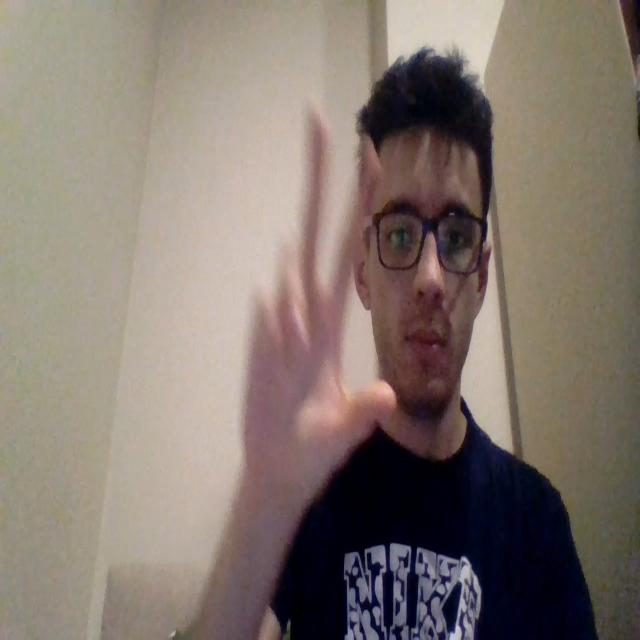no: (245, 104, 398, 502)
